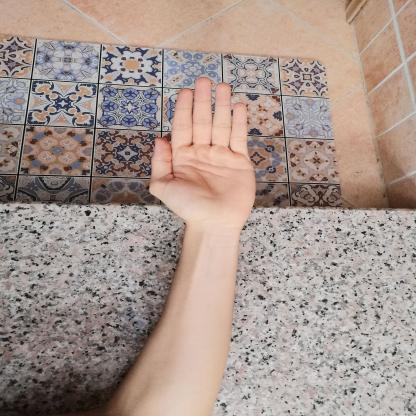SEEN: (136, 66, 267, 235)
